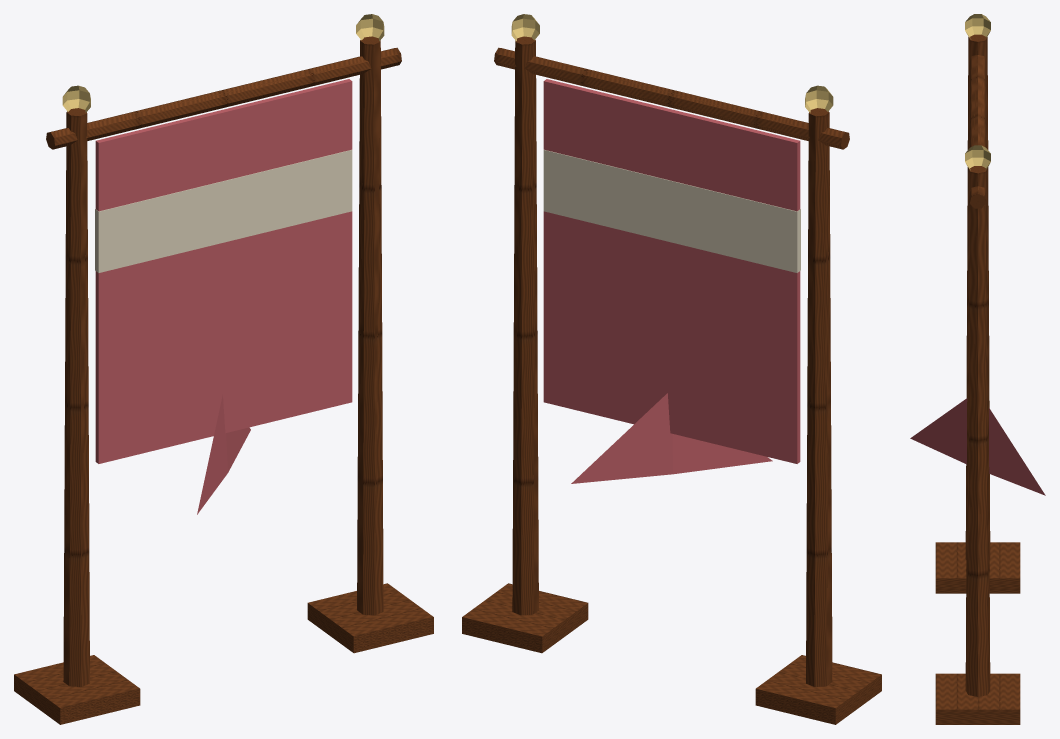
File: legendary-warriors-kit-standing-war-banner-b652fc83__39222.glb
3 views of the same model, side by side, from view 1: azimuth 30°, elevation 25°; view 2: azimuth 150°, elevation 25°; view 3: azimuth 270°, elevation 25° (orthographic). The views are drawn at different scales.
Parts seen in each view (by area): view 1: standing-war-banner; view 2: standing-war-banner; view 3: standing-war-banner.
Boxes of the visible parts, <box> form: standing-war-banner: <box>14,14,433,724</box>; standing-war-banner: <box>462,14,881,724</box>; standing-war-banner: <box>910,14,1045,724</box>.
Bounding box in the file's own units: 1.4 × 2.19 × 0.4808.
4 materials, 1 textured.
